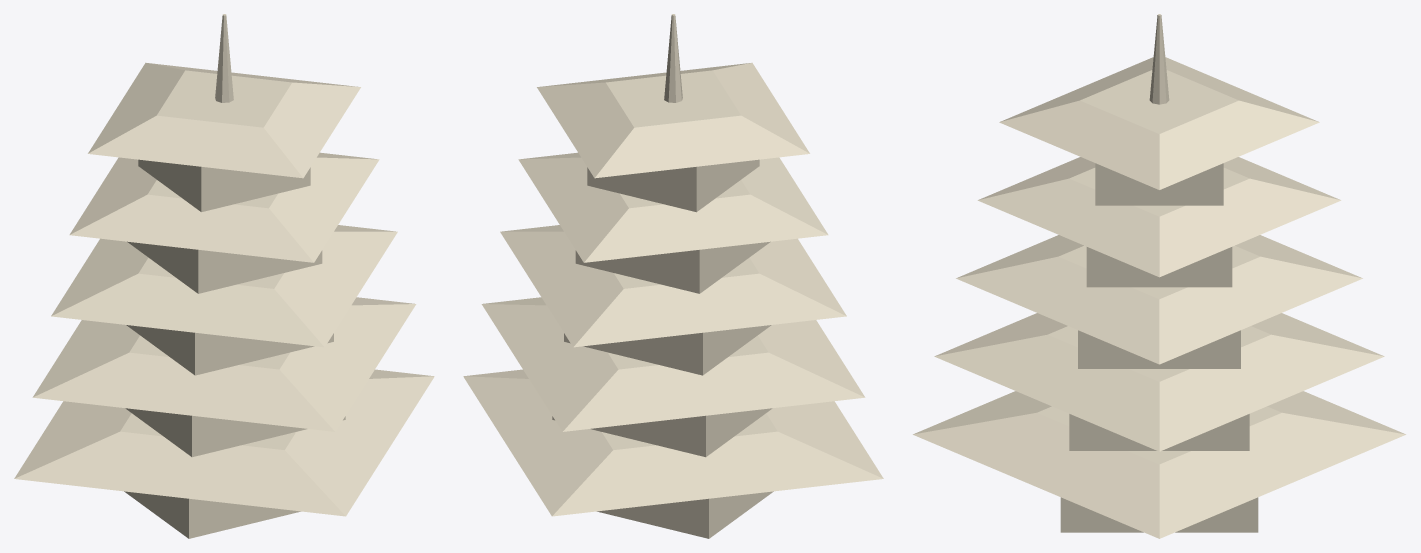
Rendered from place-toji-pagoda.glb.
3 views of the same model, side by side, from view 1: azimuth 30°, elevation 25°; view 2: azimuth 150°, elevation 25°; view 3: azimuth 270°, elevation 25° (orthographic).
Parts seen in each view (by area): view 1: place-toji-pagoda; view 2: place-toji-pagoda; view 3: place-toji-pagoda.
Part boxes in pixels (x1,y1,x2,y2): place-toji-pagoda: (14, 14, 434, 538); place-toji-pagoda: (463, 14, 883, 538); place-toji-pagoda: (913, 14, 1405, 538).
Bounding box in the file's own units: 51.75 × 55 × 51.75.
